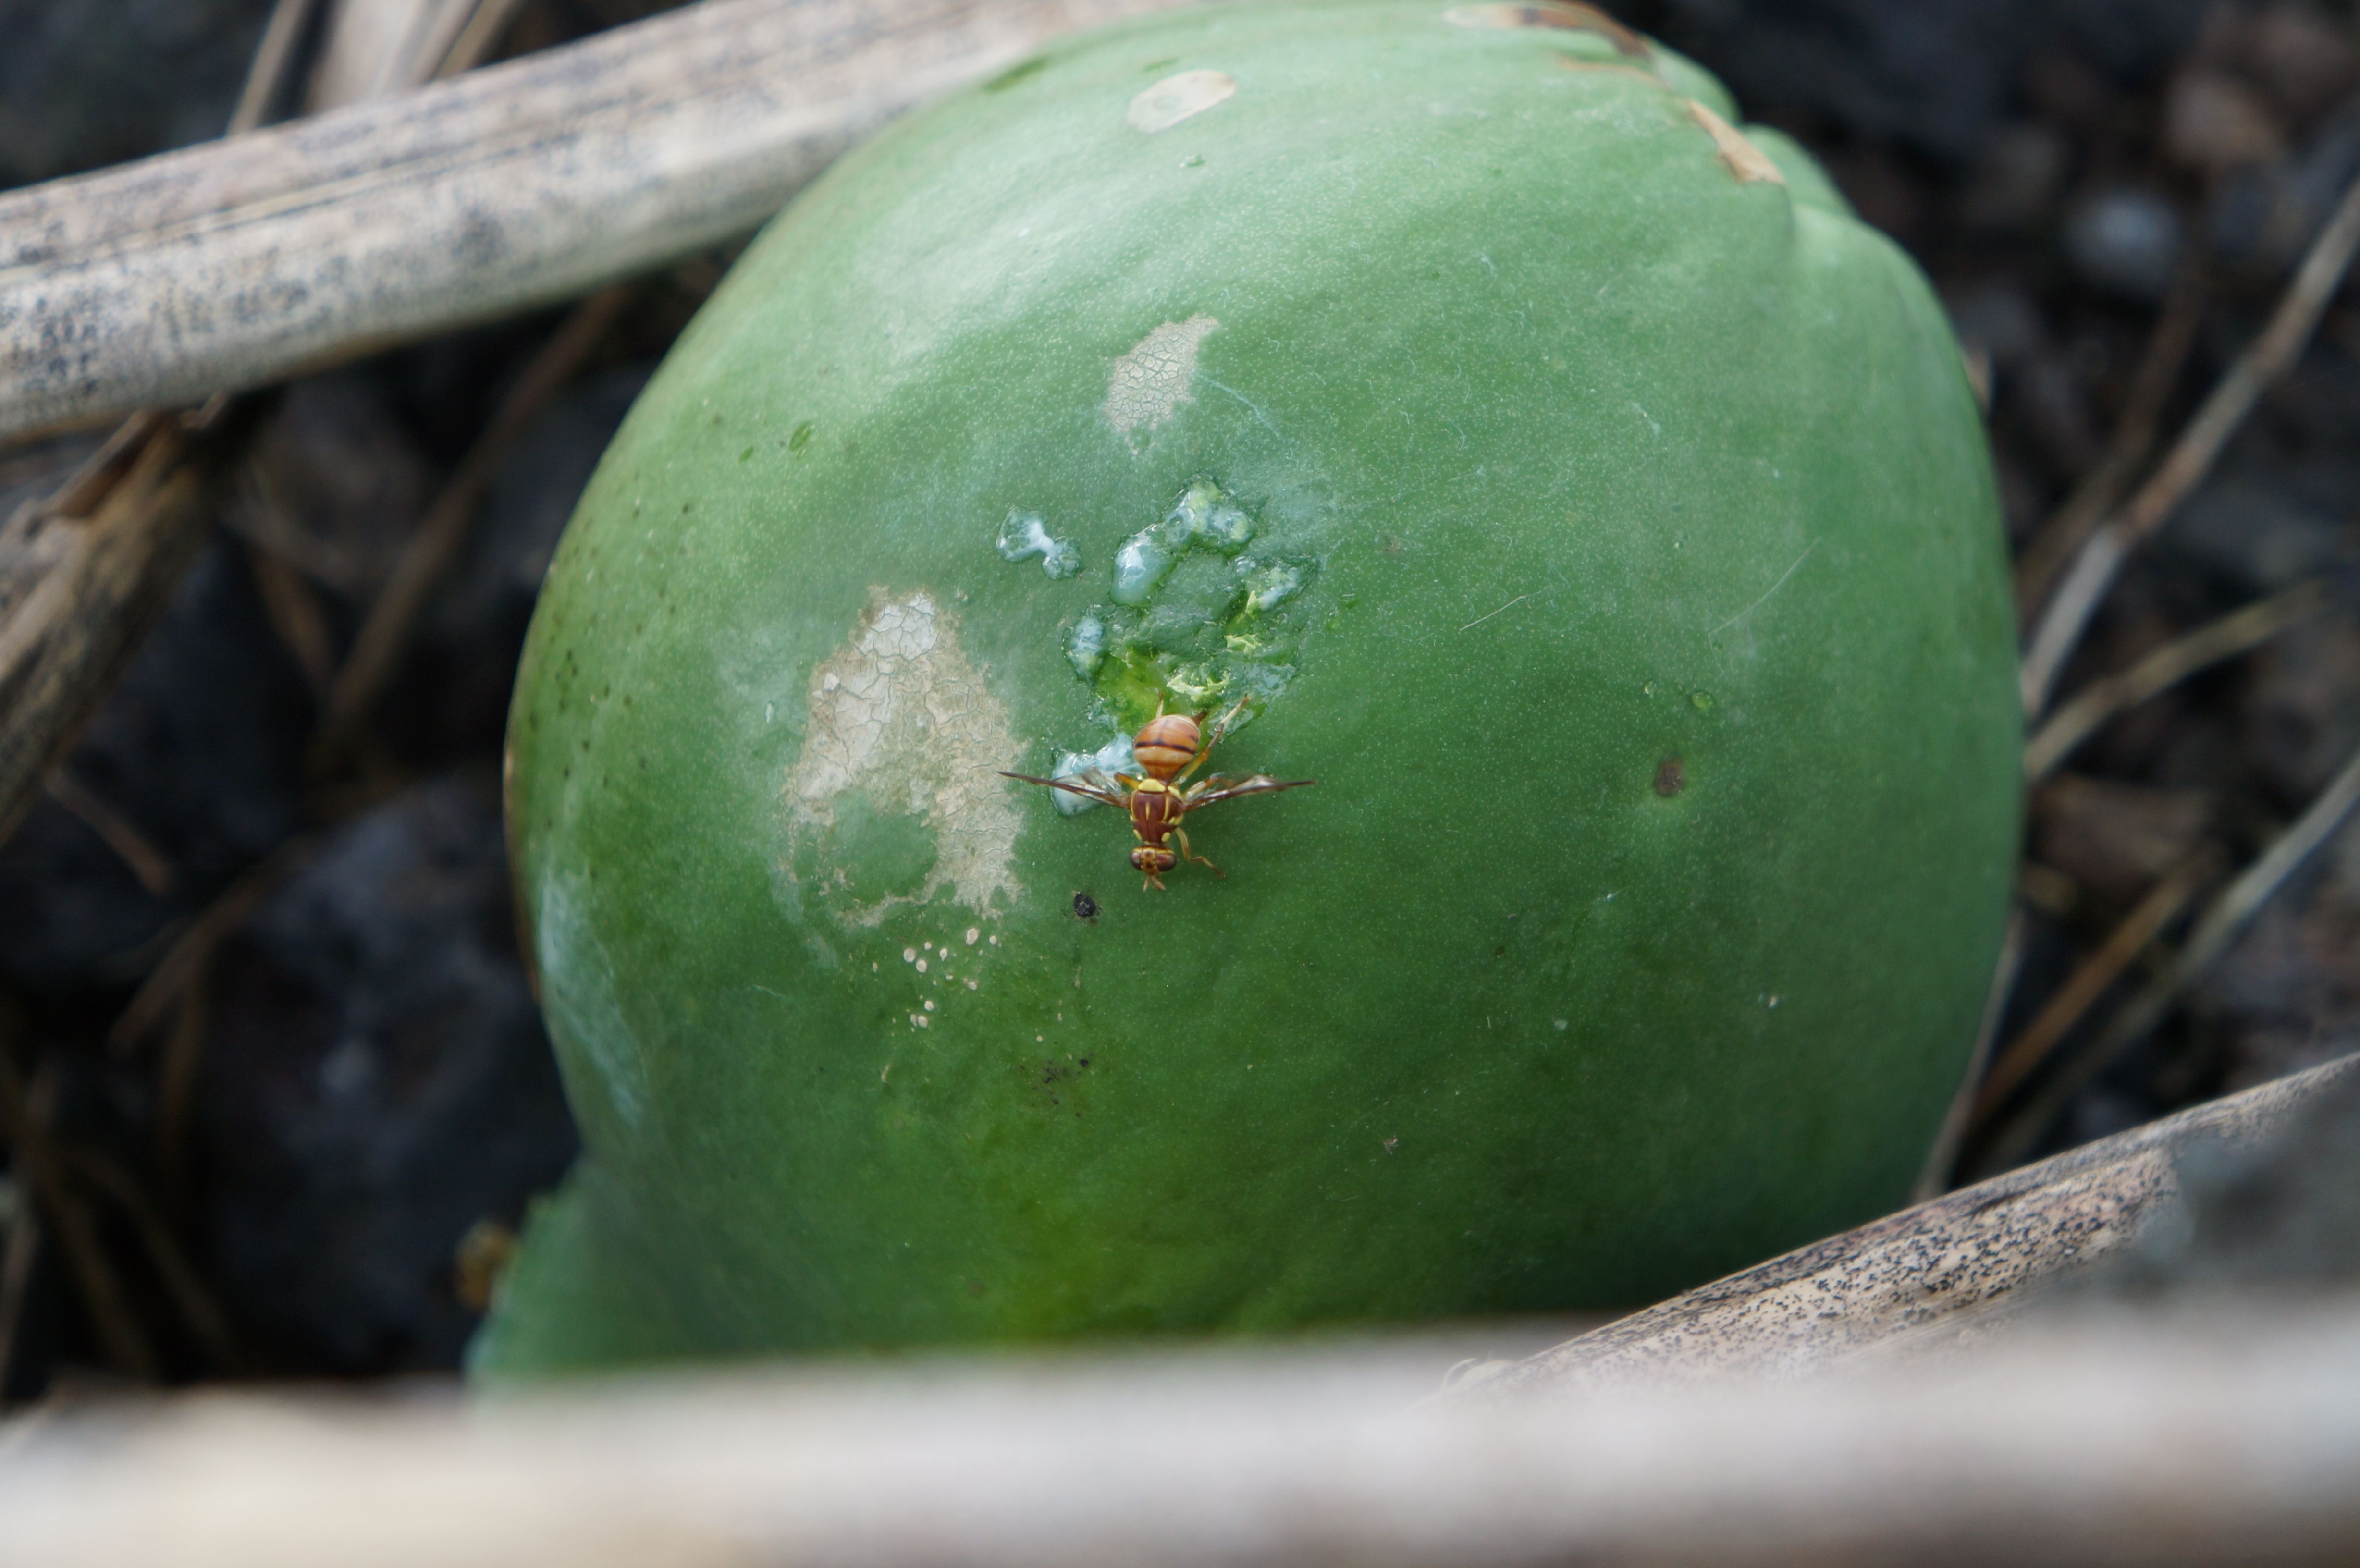Fruit fly: (985, 674, 1351, 955)
